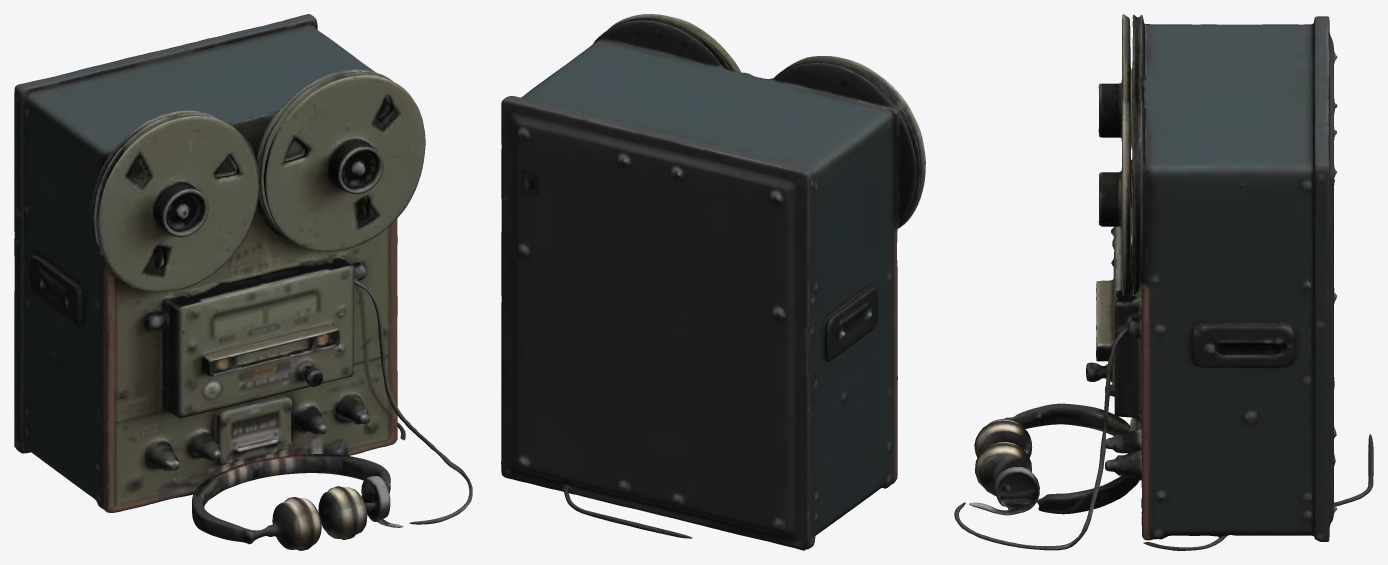
The model's file is vintage_recorder.glb.
3 views of the same model, side by side, from view 1: azimuth 30°, elevation 25°; view 2: azimuth 150°, elevation 25°; view 3: azimuth 270°, elevation 25° (orthographic). The views are drawn at different scales.
Parts seen in each view (by area): view 1: Object_4; view 2: Object_4; view 3: Object_4.
Boxes of the visible parts, bbox=[...] form: Object_4: bbox=[14, 14, 472, 550]; Object_4: bbox=[501, 14, 925, 550]; Object_4: bbox=[954, 14, 1373, 550].
Size of the model in its own units: 0.8531 by 1 by 0.9109.
1 material, 1 textured.
